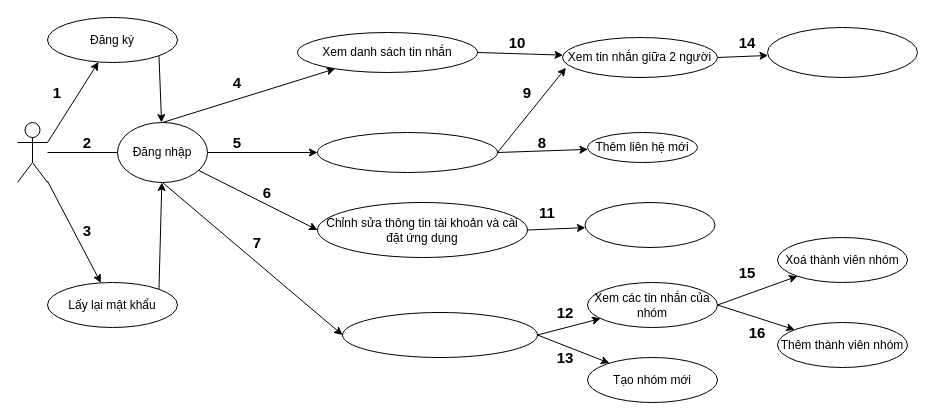
This 935x420 diagram has some shape labels left out. Each missing label, with the centre of its shape:
Actor: [32,152]
Thực hiên cuộc gọi âm thanh hoặc hình ảnh: [842,52]
Xem danh sách nhóm: [440,335]
Xem liên hệ: [407,152]
Đăng xuất: [649,225]
